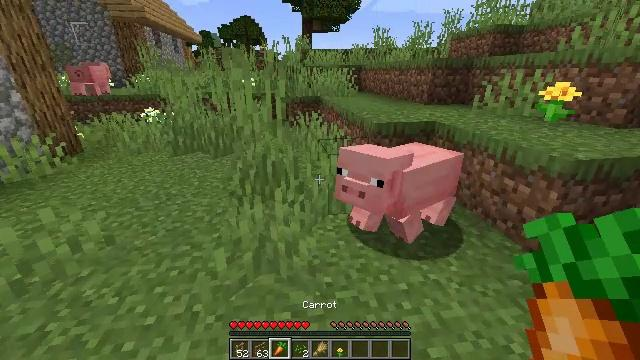pig: (338, 141, 463, 241), (68, 63, 112, 97)
